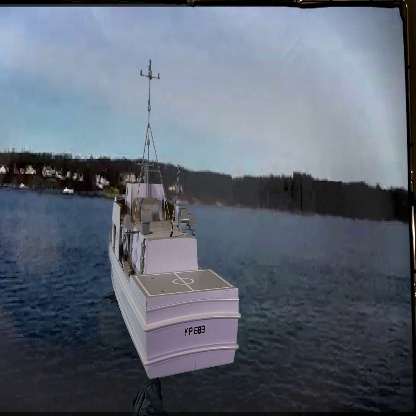YP689: (109, 56, 240, 379)
